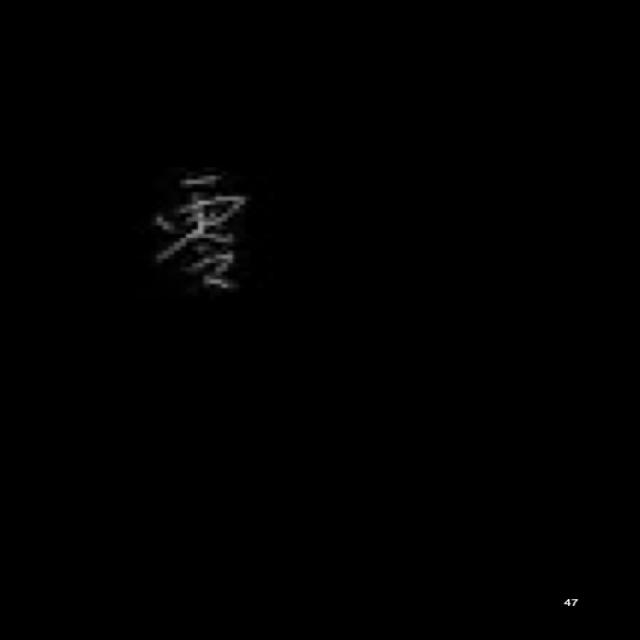0 -zero-: (140, 161, 255, 307)
